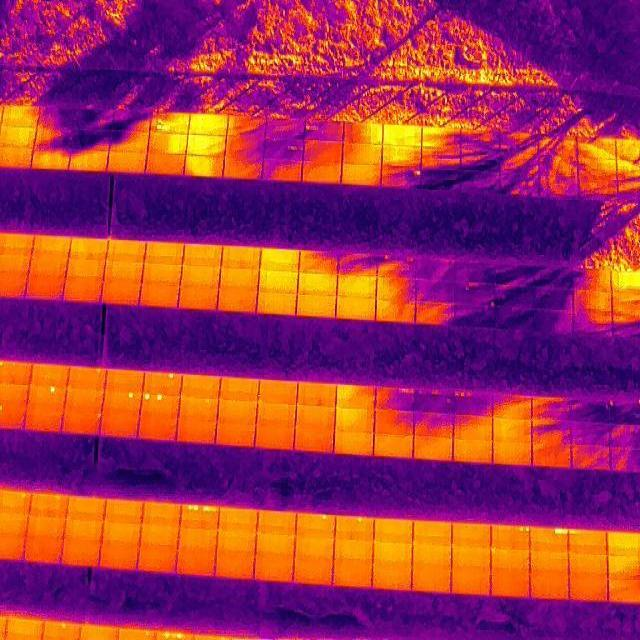Cell: (28, 385, 67, 411), (28, 493, 68, 518), (63, 411, 102, 435), (295, 515, 334, 539), (335, 518, 374, 542), (68, 366, 106, 389), (102, 390, 141, 411), (143, 372, 182, 392), (179, 398, 218, 418), (42, 622, 80, 638)
Cell-Multi: (180, 505, 219, 527), (491, 526, 529, 548), (141, 392, 180, 413), (150, 114, 189, 132)
No-Anomaly: (255, 422, 295, 452), (296, 292, 336, 318), (297, 382, 337, 408), (335, 408, 375, 434), (137, 548, 177, 574), (176, 550, 216, 576), (372, 566, 412, 592), (374, 433, 415, 458), (26, 275, 65, 301), (454, 438, 493, 464), (491, 549, 530, 575), (412, 568, 451, 594), (296, 405, 336, 430), (493, 442, 533, 467), (102, 412, 140, 438), (140, 415, 178, 441), (216, 422, 257, 446), (253, 558, 294, 582), (258, 290, 297, 315), (336, 385, 375, 410), (415, 437, 454, 462), (492, 420, 532, 444), (334, 431, 374, 455), (218, 511, 258, 535), (256, 514, 296, 538), (373, 520, 413, 544), (451, 524, 491, 548), (177, 528, 217, 552), (294, 538, 334, 562), (451, 548, 491, 572), (214, 558, 254, 582), (293, 561, 333, 585), (333, 564, 373, 588), (451, 571, 491, 595), (529, 575, 569, 599), (222, 245, 261, 269), (261, 248, 300, 272), (64, 278, 103, 302), (101, 282, 140, 306), (179, 286, 218, 310), (218, 288, 257, 312), (220, 378, 259, 402), (258, 381, 297, 405), (530, 551, 569, 575), (569, 578, 608, 602), (412, 546, 452, 569), (71, 148, 109, 172), (6, 616, 44, 640), (372, 544, 413, 566), (60, 544, 101, 566), (145, 241, 184, 264), (104, 501, 143, 524), (33, 146, 70, 170), (342, 163, 382, 185), (259, 270, 299, 292), (298, 272, 338, 294), (257, 403, 297, 425), (177, 420, 217, 442), (294, 430, 334, 452), (26, 519, 66, 541), (102, 525, 142, 547), (139, 526, 179, 548), (255, 536, 295, 558), (24, 540, 64, 562), (568, 555, 608, 577), (187, 135, 226, 157), (184, 244, 223, 266), (142, 264, 181, 286), (141, 285, 180, 307), (337, 298, 376, 320), (65, 499, 104, 521), (141, 504, 180, 526), (412, 525, 451, 547), (490, 575, 529, 597), (337, 275, 377, 296), (105, 370, 145, 391), (64, 390, 104, 411), (218, 400, 258, 421), (62, 522, 104, 542), (216, 535, 256, 556), (148, 133, 186, 155), (108, 152, 146, 174), (147, 153, 185, 175), (70, 238, 108, 260), (108, 240, 146, 262), (104, 262, 142, 284), (31, 364, 69, 386), (342, 142, 383, 162), (185, 155, 224, 176), (189, 114, 228, 135), (302, 162, 342, 182), (333, 541, 373, 561), (99, 548, 139, 568), (33, 235, 71, 256), (182, 265, 220, 286), (181, 377, 219, 398), (383, 125, 422, 145), (382, 146, 421, 166), (30, 256, 68, 276), (67, 259, 105, 279), (220, 268, 258, 288), (2, 106, 39, 126), (0, 126, 36, 146), (26, 411, 63, 430)
Shadowing: (537, 132, 578, 162), (416, 385, 455, 413), (576, 135, 617, 161), (572, 286, 613, 312), (376, 299, 415, 326), (415, 276, 455, 302), (533, 286, 573, 312), (533, 309, 573, 335), (376, 386, 416, 412), (571, 395, 612, 420), (456, 278, 495, 304), (454, 390, 493, 416), (536, 158, 578, 182), (381, 165, 421, 190), (300, 248, 338, 274), (532, 262, 573, 286), (415, 302, 456, 326), (572, 312, 613, 336), (572, 265, 611, 290), (415, 412, 454, 437), (492, 396, 532, 420), (375, 411, 415, 435), (572, 421, 612, 445), (532, 444, 572, 468), (571, 445, 611, 469), (495, 260, 533, 285), (71, 128, 110, 152), (109, 128, 148, 152), (263, 158, 302, 182), (338, 251, 377, 275), (532, 396, 571, 420), (578, 181, 618, 204), (454, 256, 494, 279), (576, 159, 617, 181), (376, 276, 415, 299), (265, 114, 305, 136), (264, 138, 304, 160), (415, 255, 455, 277), (39, 105, 79, 127), (495, 306, 533, 329), (454, 416, 492, 439), (226, 136, 265, 158), (461, 149, 500, 171), (225, 158, 264, 180), (377, 253, 416, 275), (532, 420, 571, 442), (228, 114, 266, 136), (495, 285, 533, 307), (456, 305, 494, 327), (36, 126, 73, 148), (304, 121, 344, 141), (344, 124, 384, 144), (422, 128, 462, 148), (462, 128, 502, 148), (303, 142, 343, 162), (422, 146, 462, 166), (421, 169, 461, 189), (461, 171, 501, 191), (110, 111, 151, 129), (80, 110, 111, 126)
Unclassified: (529, 528, 568, 552), (569, 530, 607, 554)
